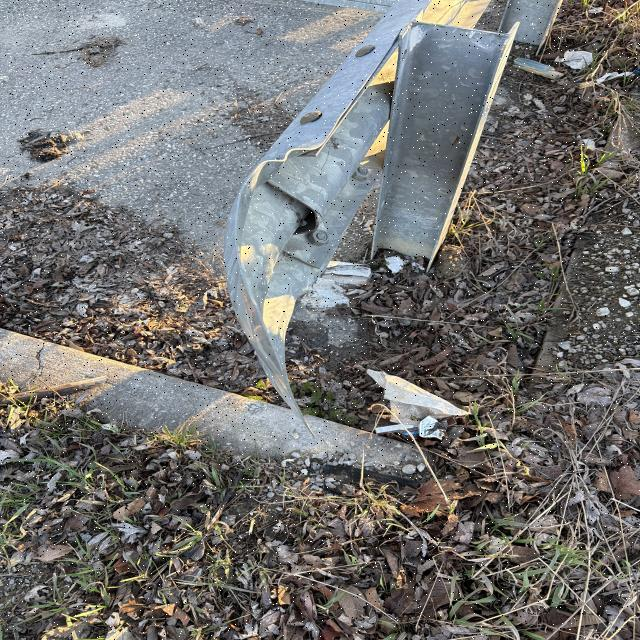Guard rail: (224, 27, 558, 325)
